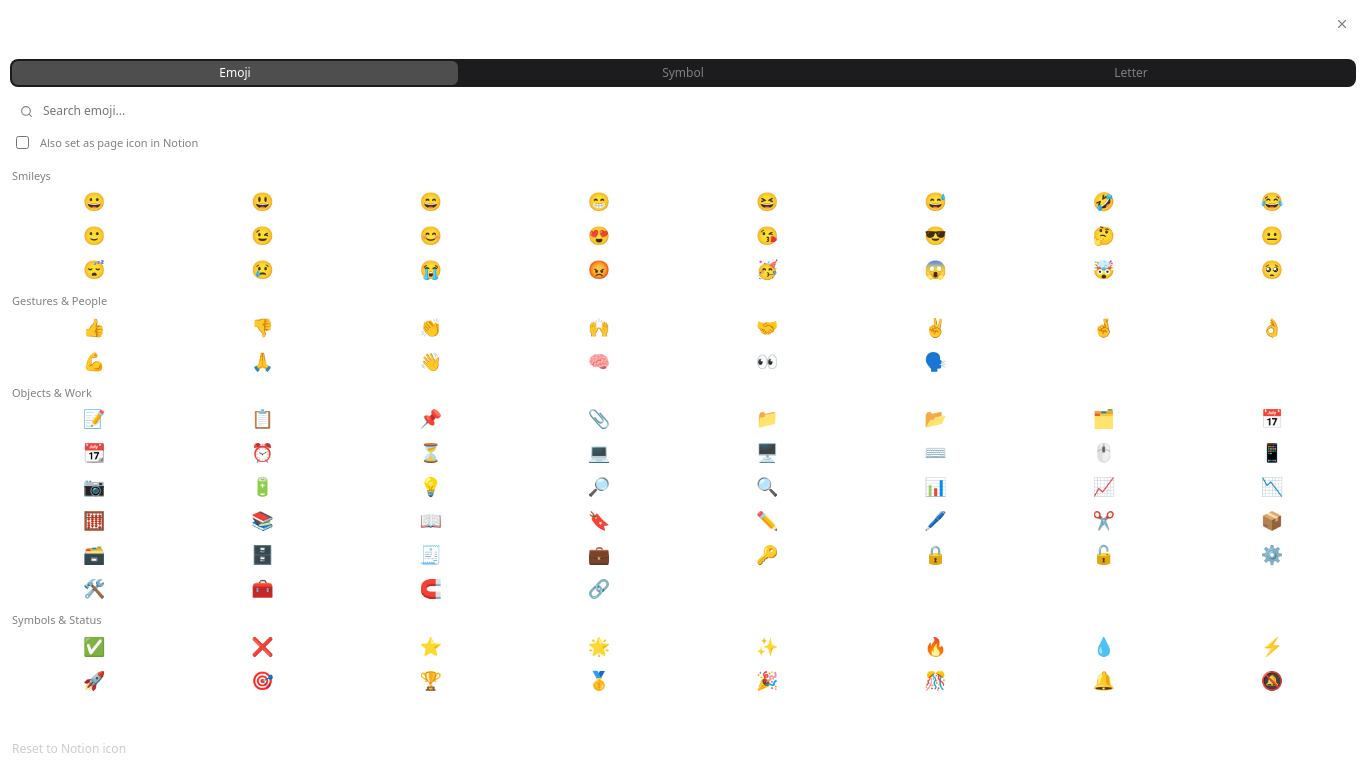
Test: IconPicker › lays emoji out in 8 columns and shows a message when nothing matches
Type "zzzz" into the field labelled "Search emoji" at (694, 111), box x1=41 y1=102 x2=1346 y2=120
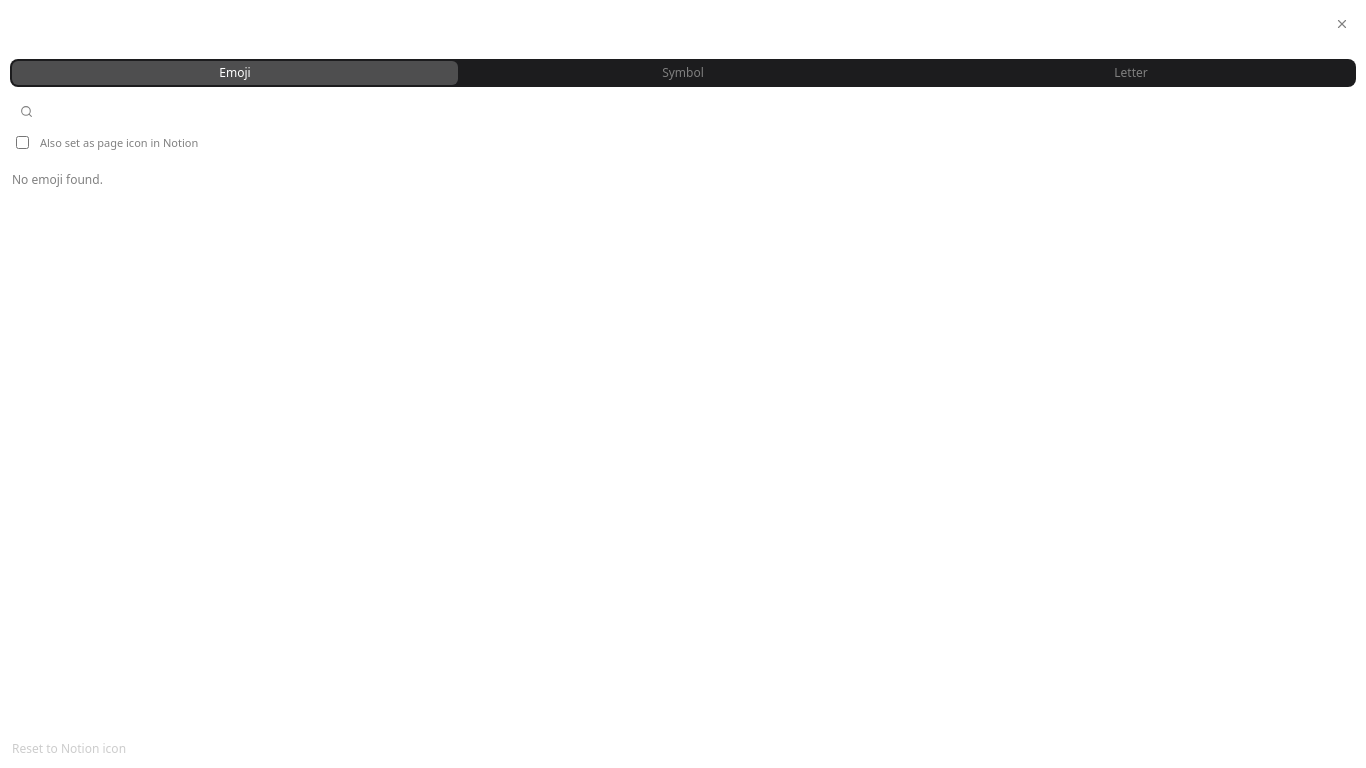
Expected: the text "No emoji found." is shown, x1=12 y1=171 x2=103 y2=188
